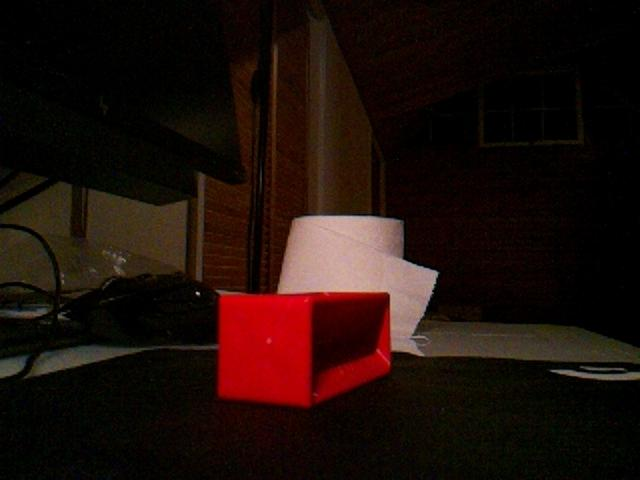red: (215, 290, 393, 409)
